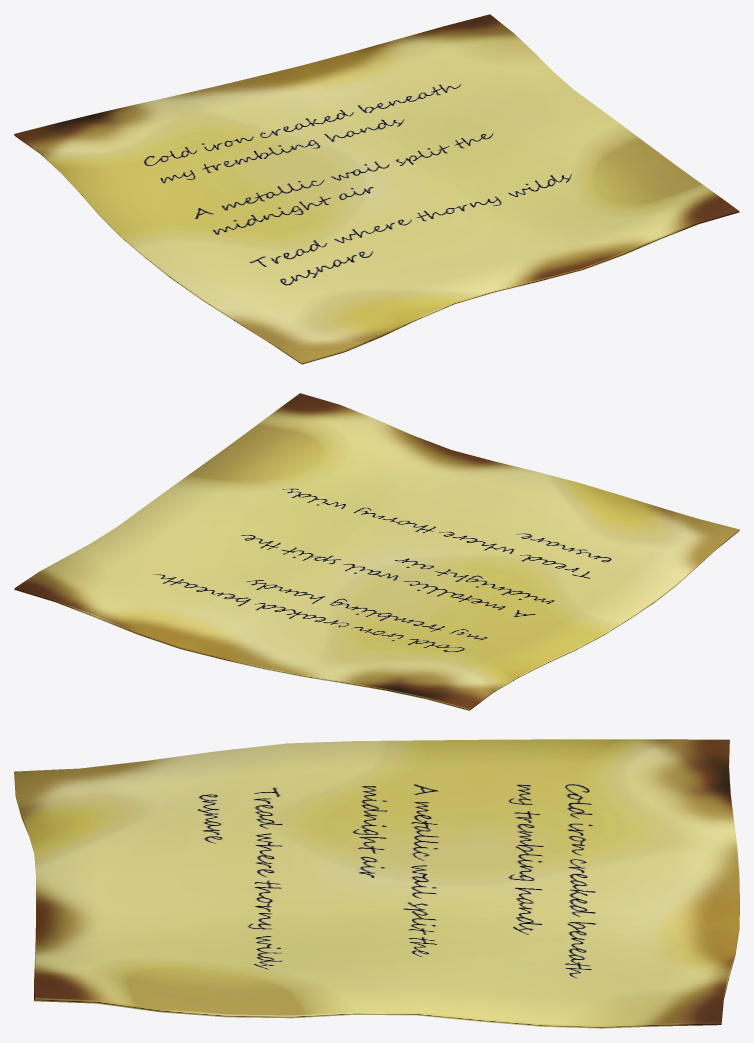
File: paper 1.glb
3 renders of one model, top to bottom at view 1: azimuth 30°, elevation 25°; view 2: azimuth 150°, elevation 25°; view 3: azimuth 270°, elevation 25°, orthographic. The views are drawn at different scales.
Parts seen in each view (by area): view 1: Plane; view 2: Plane; view 3: Plane.
Part boxes in pixels (x1=…): Plane: x1=14, y1=14, x2=739, y2=364; Plane: x1=14, y1=393, x2=739, y2=710; Plane: x1=14, y1=739, x2=739, y2=1028.
Bounding box in the file's own units: 0.8607 × 0.0672 × 0.8722.
Materials: 1 (1 with a texture image).
